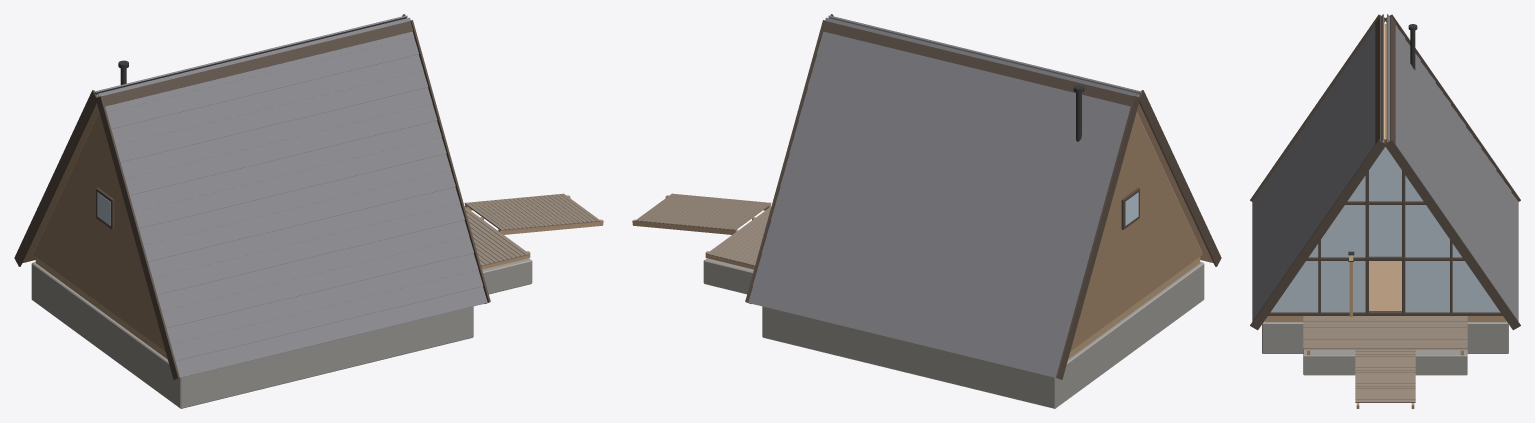
File: cabin_aframe.glb
3 renders of one model, left to right at view 1: azimuth 30°, elevation 25°; view 2: azimuth 150°, elevation 25°; view 3: azimuth 270°, elevation 25°, orthographic. The views are drawn at different scales.
Visible parts, largest first — view 1: Cabin_M_RoofSlate, Cabin_M_Stone, Cabin_M_Siding, Cabin_M_Frame, Cabin_M_Deck, Cabin_M_Beam, Cabin_M_Floor; view 2: Cabin_M_RoofSlate, Cabin_M_Stone, Cabin_M_Siding, Cabin_M_Frame, Cabin_M_Deck, Cabin_M_Beam, Cabin_M_Floor; view 3: Cabin_M_RoofSlate, Cabin_M_Glass, Cabin_M_Frame, Cabin_M_Deck, Cabin_M_Stone, Cabin_M_Floor, Cabin_M_Beam, Cabin_M_Lining, Cabin_M_Metal.
Boxes of the visible parts, x1,y1,x2,y2 form: Cabin_M_RoofSlate: (94,15,487,378); Cabin_M_Stone: (31,258,532,408); Cabin_M_Siding: (33,112,165,351); Cabin_M_Frame: (14,14,490,379); Cabin_M_Deck: (464,193,600,266); Cabin_M_Beam: (22,94,603,269); Cabin_M_Floor: (35,257,167,359); Cabin_M_RoofSlate: (748,15,1141,378); Cabin_M_Stone: (703,258,1204,408); Cabin_M_Siding: (1070,112,1202,351); Cabin_M_Frame: (745,14,1221,379); Cabin_M_Deck: (635,193,771,266); Cabin_M_Beam: (632,94,1213,269); Cabin_M_Floor: (1068,257,1200,359); Cabin_M_RoofSlate: (1252,14,1518,321); Cabin_M_Glass: (1271,147,1499,312); Cabin_M_Frame: (1250,14,1520,330); Cabin_M_Deck: (1303,316,1467,402); Cabin_M_Stone: (1262,321,1508,375); Cabin_M_Floor: (1264,261,1506,321); Cabin_M_Beam: (1307,20,1463,408); Cabin_M_Lining: (1384,23,1386,139); Cabin_M_Metal: (1348,24,1417,261).
Size of the model in its own units: 17.02 by 9.01 by 9.87.
